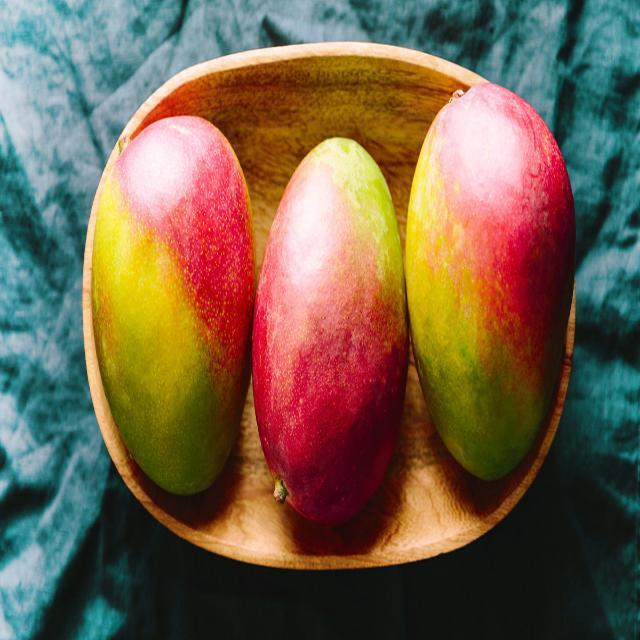Mango: (404, 87, 578, 477), (250, 139, 406, 523), (91, 114, 247, 493)
